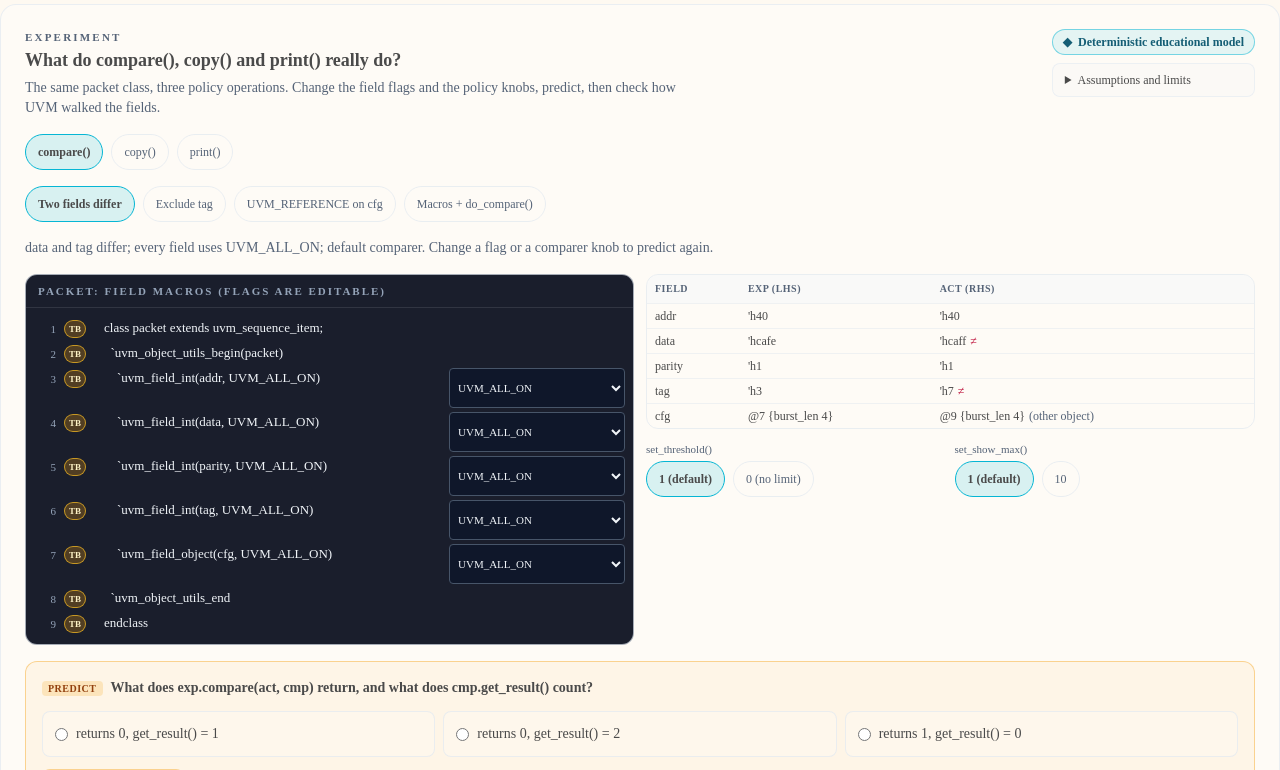
Test: UvmPolicyVisualizer › compare: editing a field flag re-arms the prediction and changes the result
Select "UVM_ALL_ON | UVM_NOCOMPARE" in the dropdown named "Flag for data" at [537, 432], box [449,412,625,452]
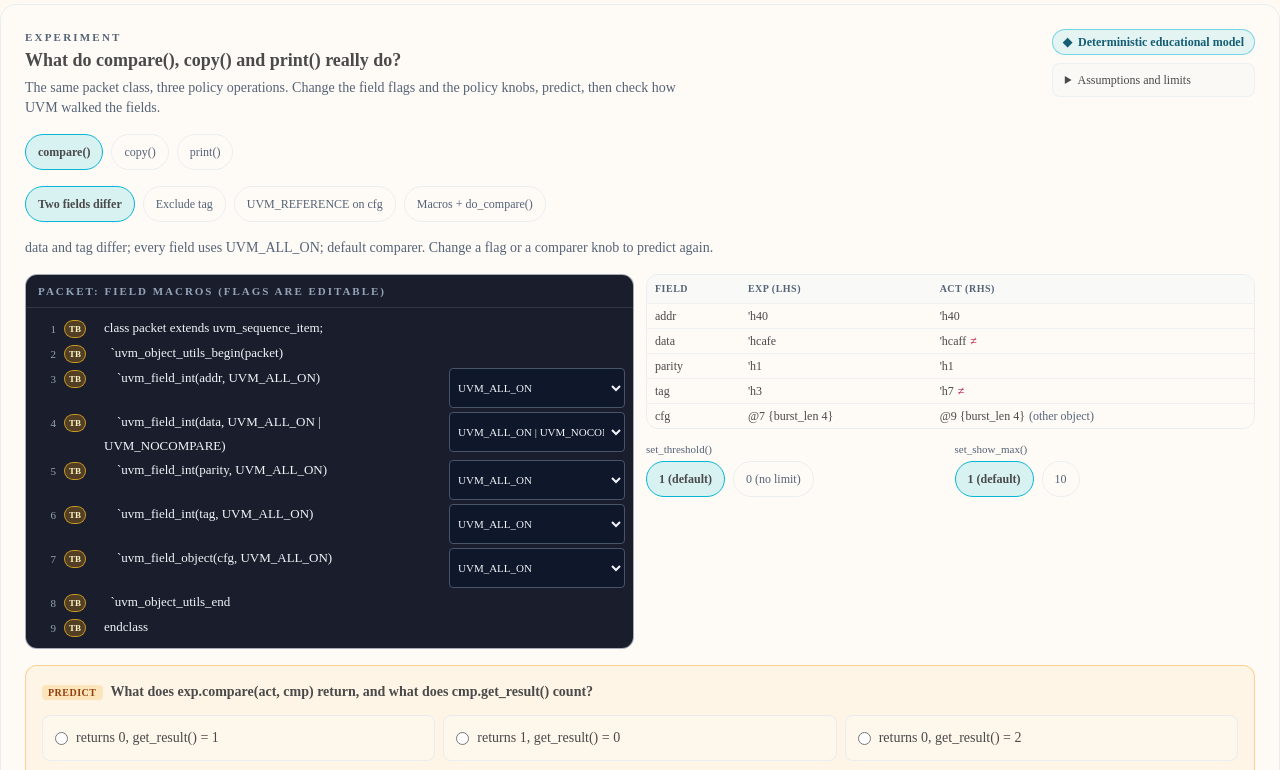
Now the text "`uvm_field_int(data, UVM_ALL_ON | UVM_NOCOMPARE)" is shown, box [104,414,324,453]
Click the radio button labelled "returns 0, get_result() = 1" at [62, 738], box [55,732,68,745]
(page scrolled)
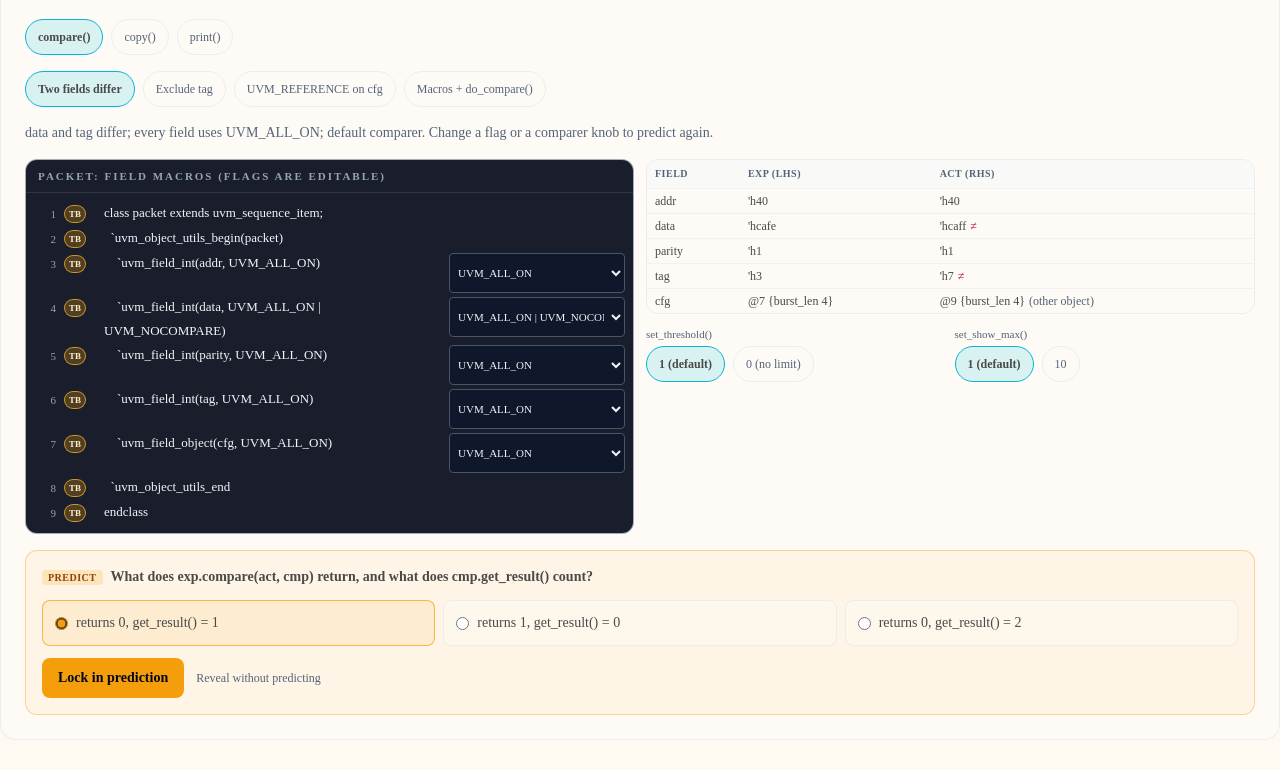
Click the button "Lock in prediction" at [113, 678], box [42,658,184,698]
(page scrolled)
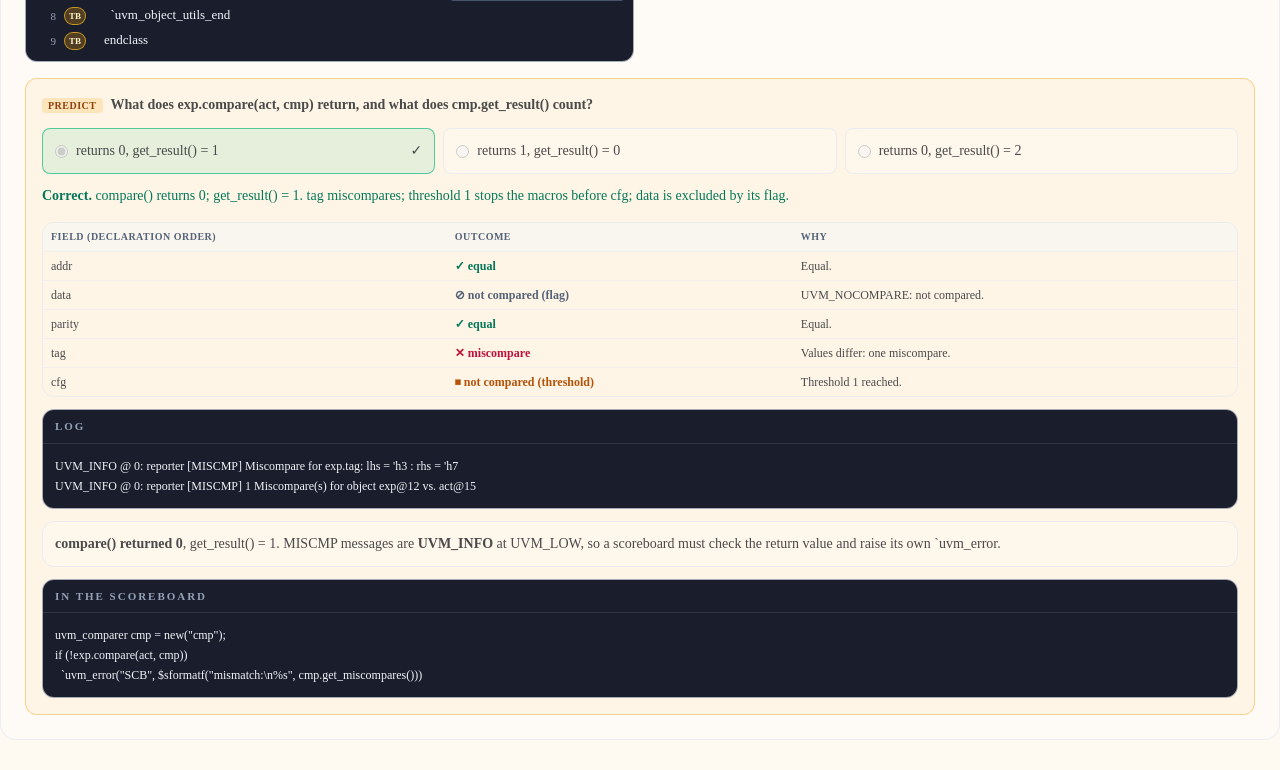
Now the text "Correct." is shown, box [42,188,95,203]
Now the text "Miscompare for exp.tag" is shown, box [55,458,476,492]
